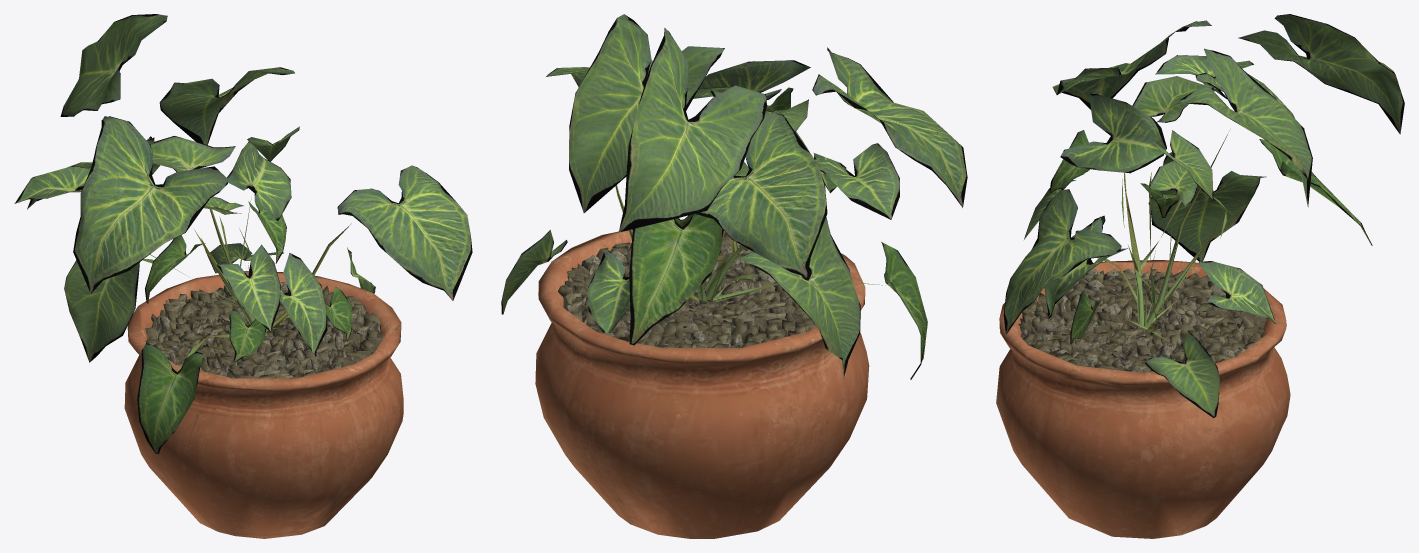
File: potted_plant_02.glb
The picture shows the model from 3 angles, left to right: view 1: azimuth 30°, elevation 25°; view 2: azimuth 150°, elevation 25°; view 3: azimuth 270°, elevation 25°; orthographic projection. The views are drawn at different scales.
Parts seen in each view (by area): view 1: potted_plant_02_leaves, potted_plant_02_pot; view 2: potted_plant_02_leaves, potted_plant_02_pot; view 3: potted_plant_02_pot, potted_plant_02_leaves.
Part boxes in pixels (x1=…): potted_plant_02_leaves: x1=14, y1=14, x2=472, y2=453; potted_plant_02_pot: x1=124, y1=271, x2=403, y2=538; potted_plant_02_leaves: x1=501, y1=14, x2=967, y2=379; potted_plant_02_pot: x1=535, y1=219, x2=869, y2=538; potted_plant_02_pot: x1=996, y1=260, x2=1290, y2=538; potted_plant_02_leaves: x1=1003, y1=14, x2=1404, y2=417.
Bounding box in the file's own units: 0.7009 × 0.8395 × 0.6554.
Materials: 2 (2 with a texture image).
